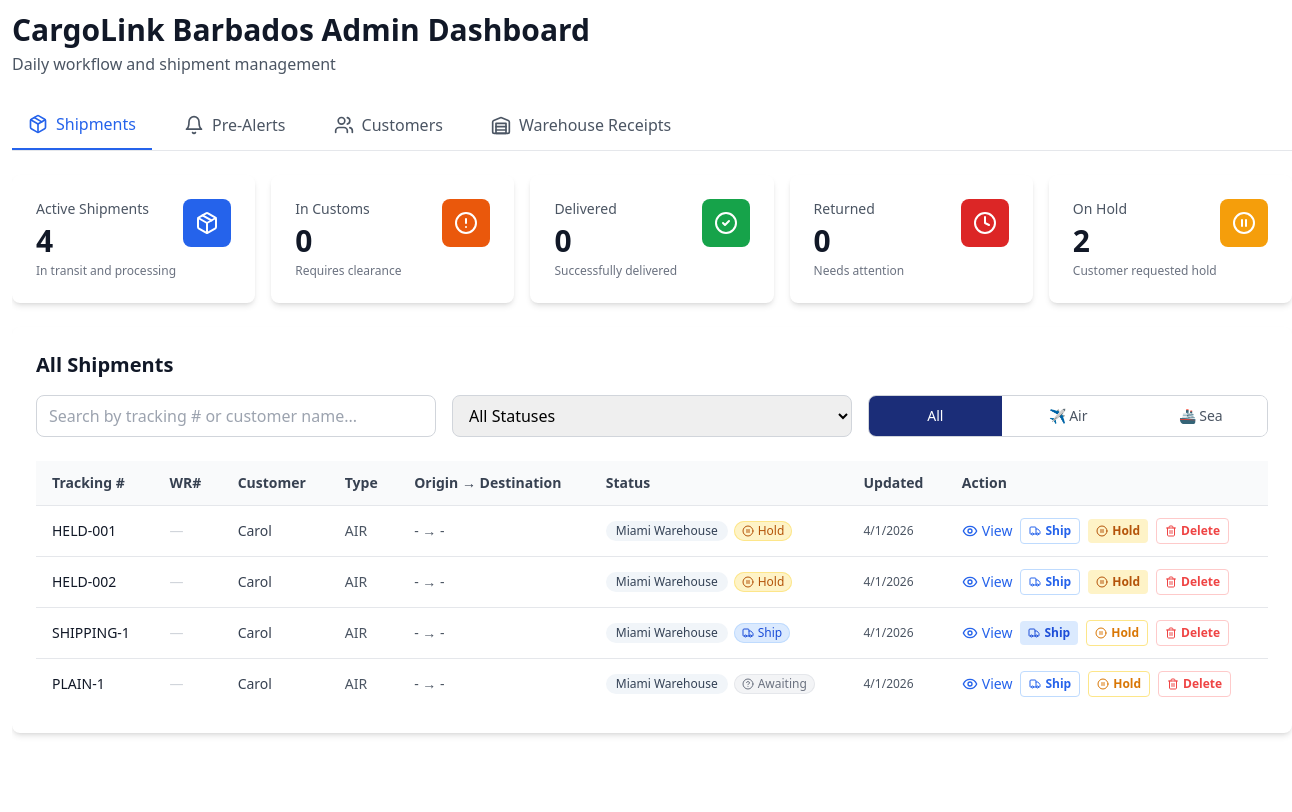
Test: AdminDashboard — On Hold metric card › choosing a status card clears the hold filter so they cannot conflict
The width and height of the screenshot is (1292, 812).
Click the text "On Hold" at coordinates (1100, 208), box [1073, 199, 1127, 218]
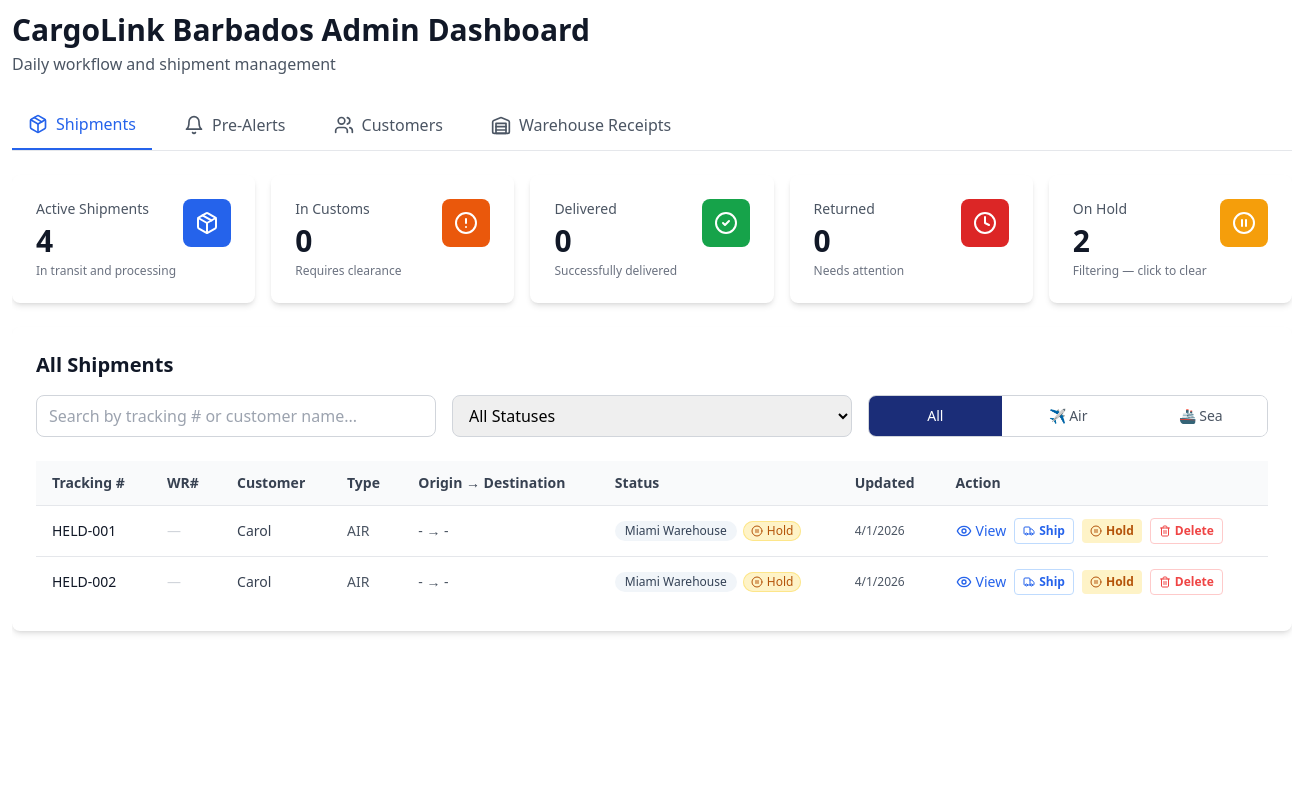
Expected: the text "PLAIN-1" is gone
Click the text "Successfully delivered" at coordinates (616, 270), box [554, 262, 677, 279]
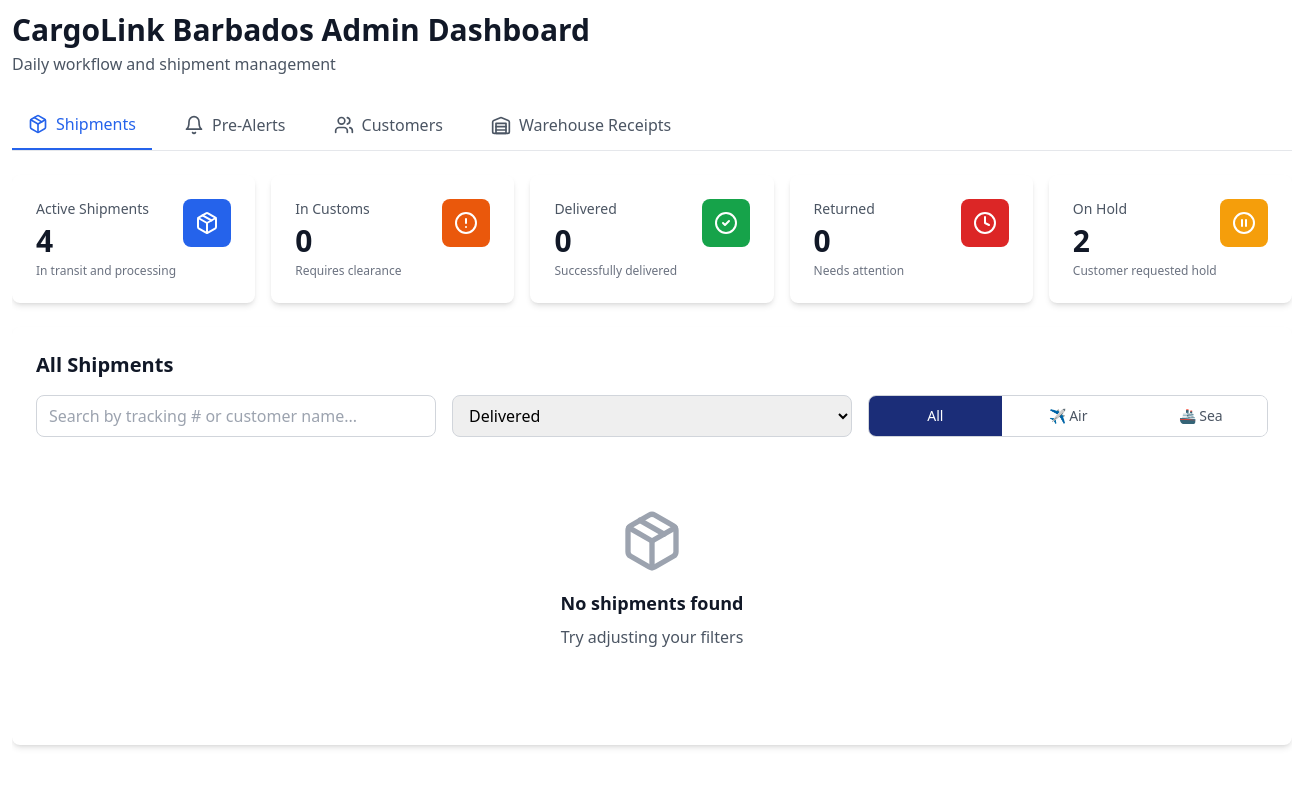
Expected: the text "HELD-001" is gone
